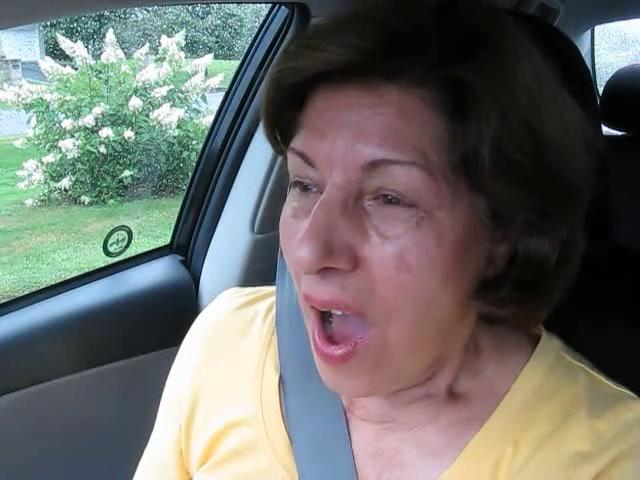close_eyeL: (277, 169, 331, 206)
close_eyeR: (351, 149, 447, 237)
yawn: (281, 297, 395, 372)
